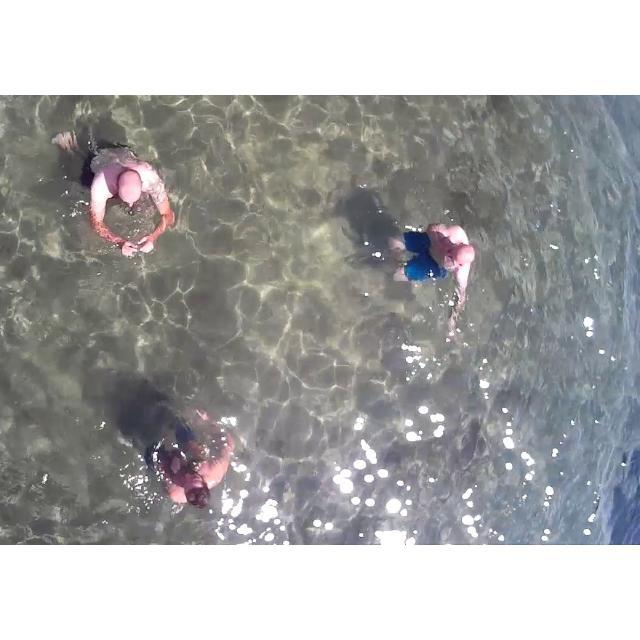human: (47, 109, 180, 271), (129, 384, 238, 525), (381, 203, 477, 341)
